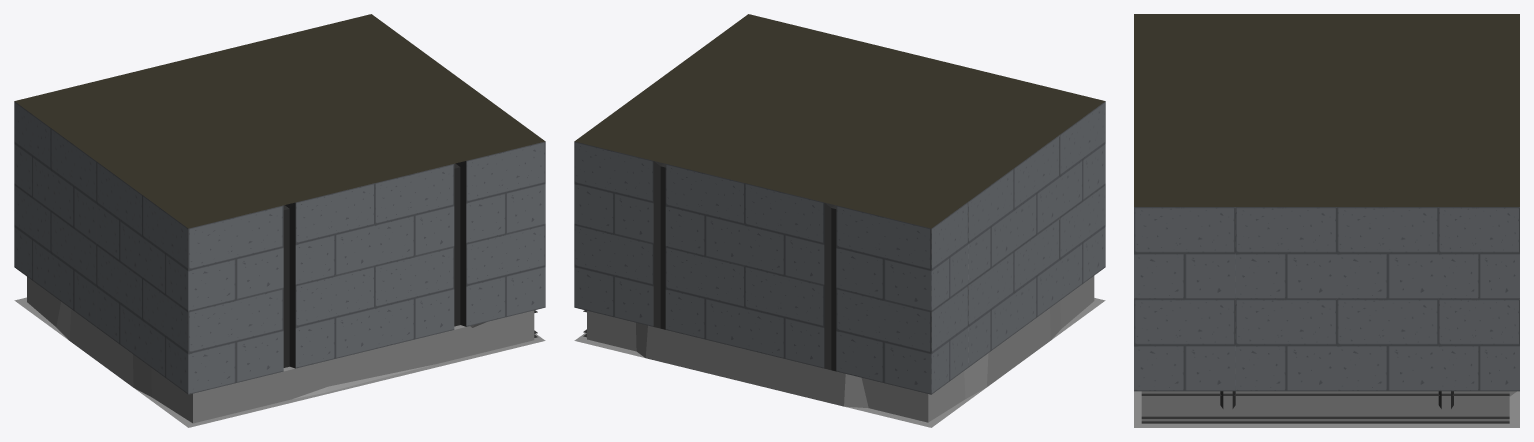
File: SW_ENV_Elevator_Shaft_Top_FF.fbx
The picture shows the model from 3 angles, left to right: view 1: azimuth 30°, elevation 25°; view 2: azimuth 150°, elevation 25°; view 3: azimuth 270°, elevation 25°; orthographic projection. The views are drawn at different scales.
Visible parts, largest first — view 1: SW_ENV_Elevator_Shaft_Top_FF; view 2: SW_ENV_Elevator_Shaft_Top_FF; view 3: SW_ENV_Elevator_Shaft_Top_FF.
Part boxes in pixels (bbox=[...]): SW_ENV_Elevator_Shaft_Top_FF: bbox=[14, 14, 545, 427]; SW_ENV_Elevator_Shaft_Top_FF: bbox=[574, 14, 1105, 427]; SW_ENV_Elevator_Shaft_Top_FF: bbox=[1134, 14, 1519, 427].
Size of the model in its own units: 450 by 240 by 380.
